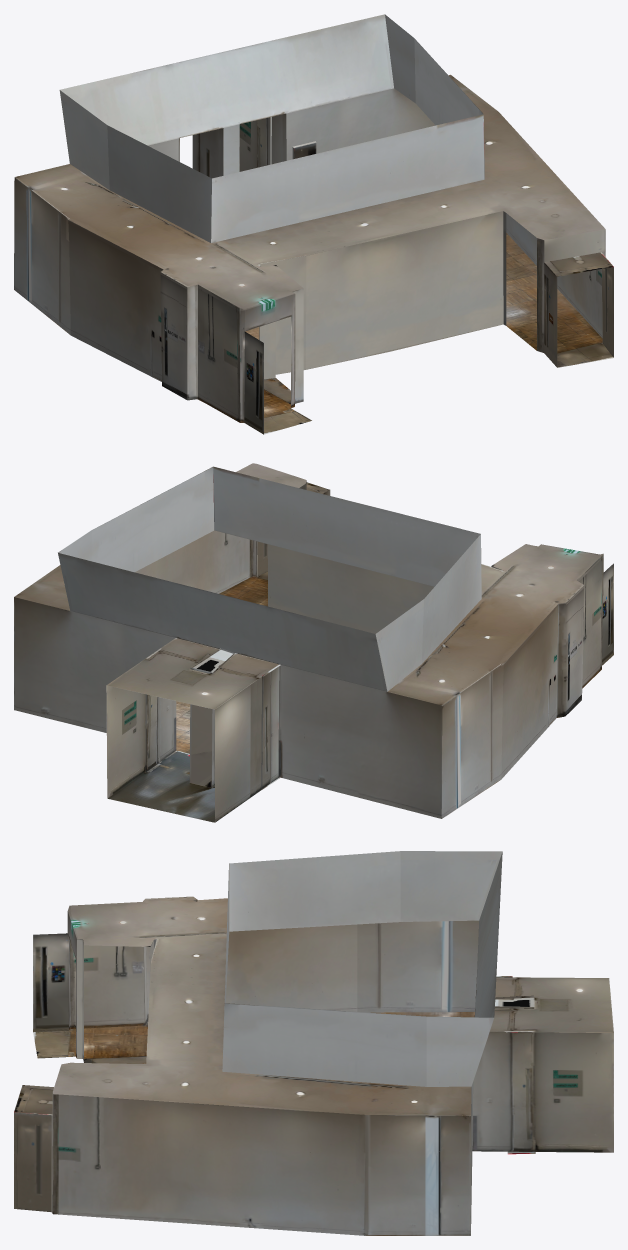
The model's file is atrium-new-LP.fbx.
3 views of the same model, one above another, from view 1: azimuth 30°, elevation 25°; view 2: azimuth 150°, elevation 25°; view 3: azimuth 270°, elevation 25° (orthographic). The views are drawn at different scales.
Visible parts, largest first — view 1: atrium-new-LP; view 2: atrium-new-LP; view 3: atrium-new-LP.
Boxes of the visible parts, box(x1,y1,x2,y2) form: atrium-new-LP: box(14, 14, 613, 434); atrium-new-LP: box(14, 463, 613, 822); atrium-new-LP: box(14, 851, 613, 1235).
Bounding box in the file's own units: 1214 × 483 × 1363.
1 material, 1 textured.
